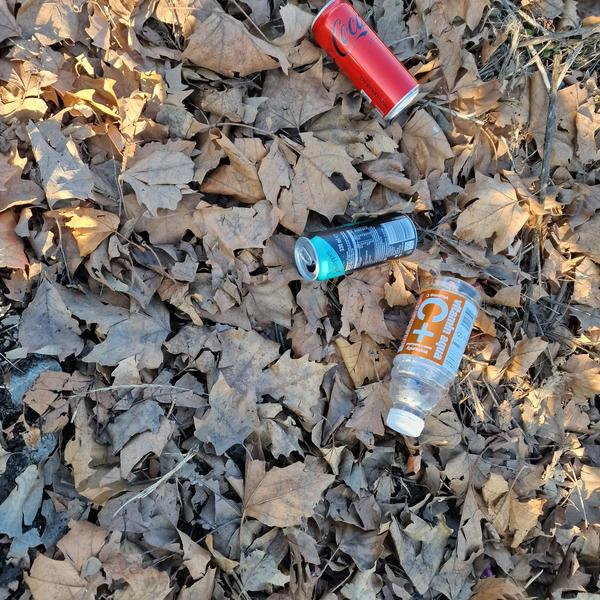can: (307, 0, 420, 122), (289, 207, 423, 286)
plastic_bottle: (369, 267, 491, 444)
